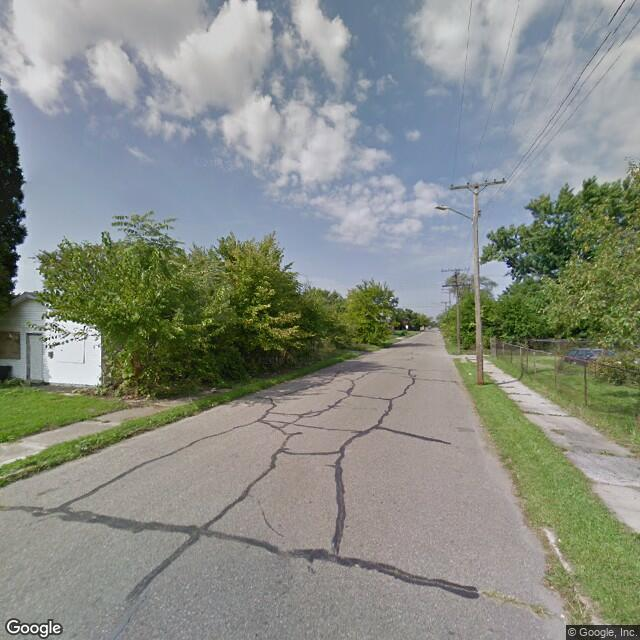litter: (468, 371, 472, 376)
